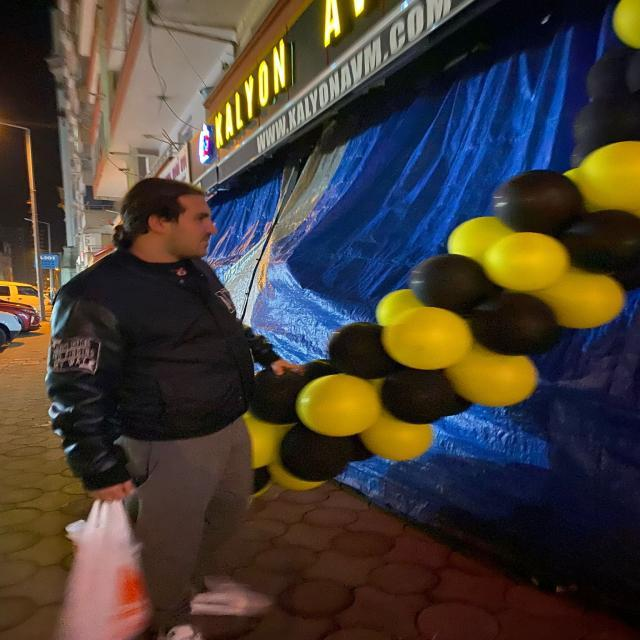balloon: (587, 134, 640, 215), (569, 210, 640, 266), (361, 418, 442, 466), (492, 172, 578, 216), (394, 312, 464, 366), (484, 297, 556, 349), (306, 384, 380, 434), (389, 371, 460, 420), (290, 425, 361, 474), (492, 242, 566, 286), (470, 355, 538, 402), (556, 278, 626, 322), (332, 320, 387, 374), (253, 370, 303, 425), (418, 266, 482, 302), (442, 216, 500, 254), (592, 53, 630, 109), (373, 284, 412, 317)
